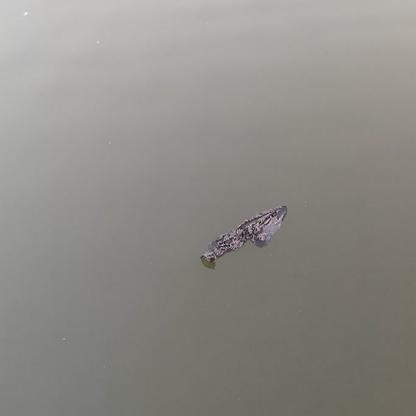plastic bag: (200, 203, 289, 266)
